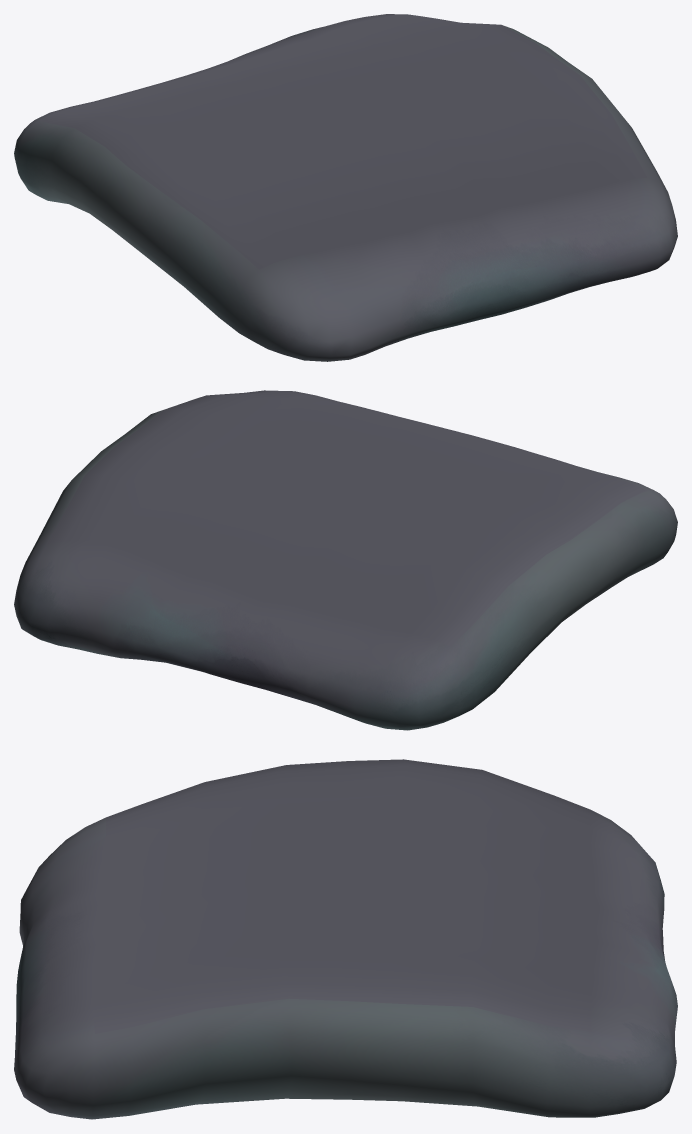
Rendered from RockCeiling.fbx.
3 renders of one model, top to bottom at view 1: azimuth 30°, elevation 25°; view 2: azimuth 150°, elevation 25°; view 3: azimuth 270°, elevation 25°, orthographic. The views are drawn at different scales.
Parts seen in each view (by area): view 1: RockCeiling; view 2: RockCeiling; view 3: RockCeiling.
Boxes of the visible parts, x1,y1,x2,y2 form: RockCeiling: (14,14,677,361); RockCeiling: (14,390,677,730); RockCeiling: (14,759,677,1119).
Size of the model in its own units: 317 by 84.26 by 326.
Materials: 1 (1 with a texture image).
